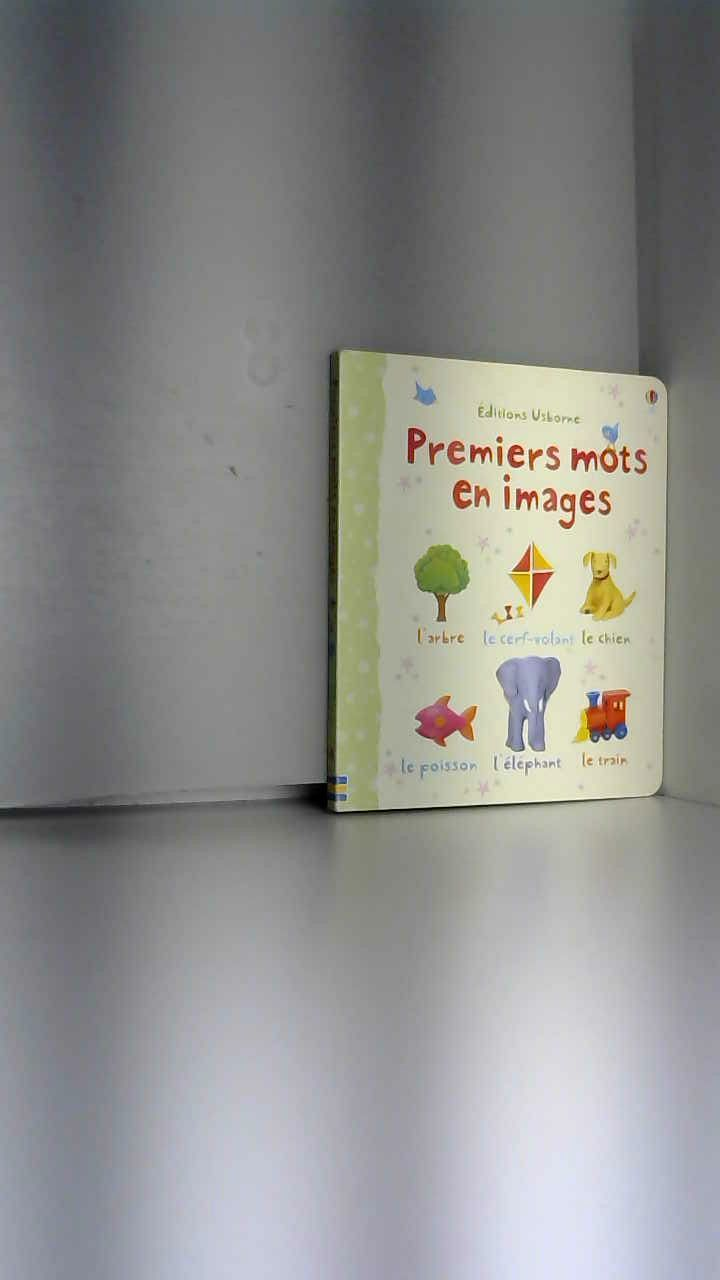book: (300, 320, 720, 839)
